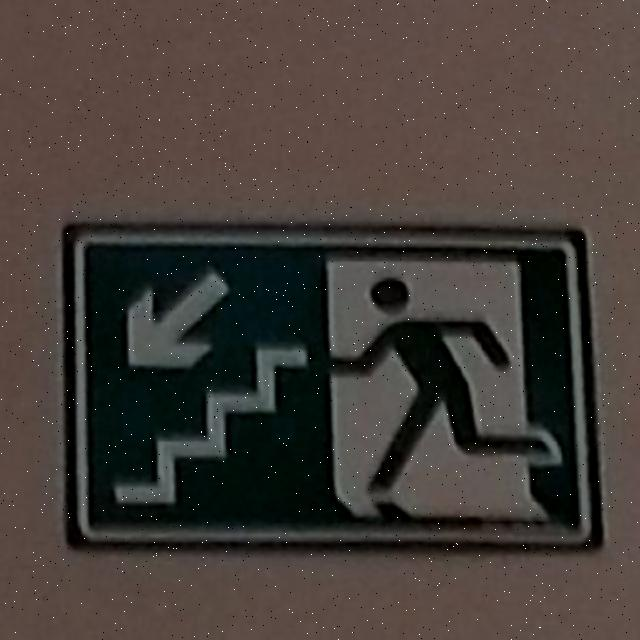emergency_exit: (63, 222, 601, 551)
